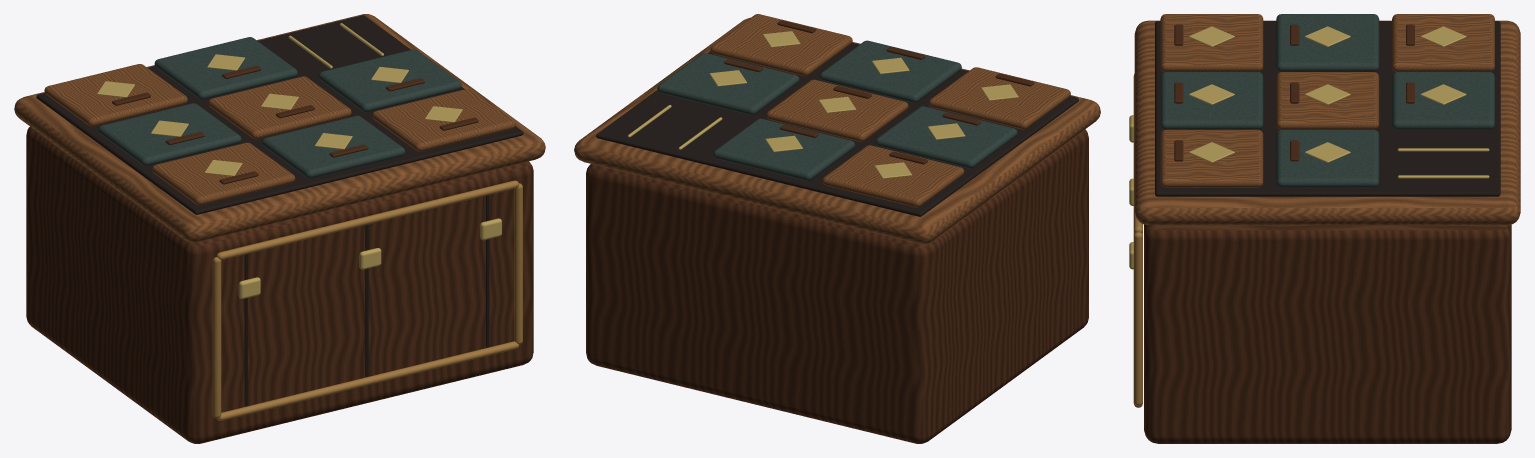
The model's file is puzzle-box.glb.
The picture shows the model from 3 angles, left to right: view 1: azimuth 30°, elevation 25°; view 2: azimuth 150°, elevation 25°; view 3: azimuth 270°, elevation 25°; orthographic projection. The views are drawn at different scales.
Parts seen in each view (by area): view 1: puzzle-box; view 2: puzzle-box; view 3: puzzle-box.
Boxes of the visible parts, x1,y1,x2,y2 form: puzzle-box: (14, 14, 545, 443); puzzle-box: (574, 14, 1100, 443); puzzle-box: (1129, 14, 1520, 443).
Bounding box in the file's own units: 0.23 × 0.15 × 0.2.
Materials: 6 (3 with a texture image).
